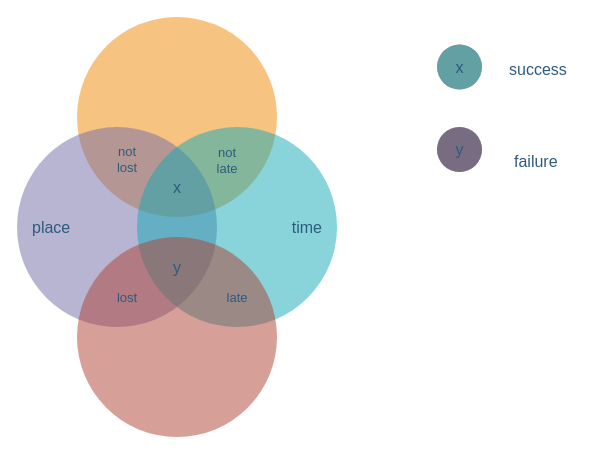
This 594x454 diagram has some shape labels left out. Each missing label, with the box of its shape:
right: (76, 16, 276, 216)
wrong: (76, 236, 276, 436)
